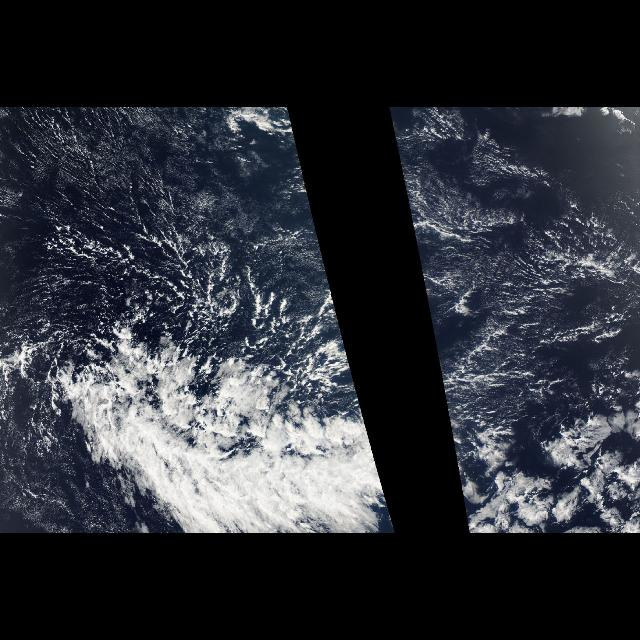Fish: (59, 328, 394, 530)
Flower: (462, 400, 636, 522)
Gravel: (6, 112, 346, 348), (391, 112, 614, 348)
Sugar: (2, 111, 358, 531), (390, 112, 638, 394)
